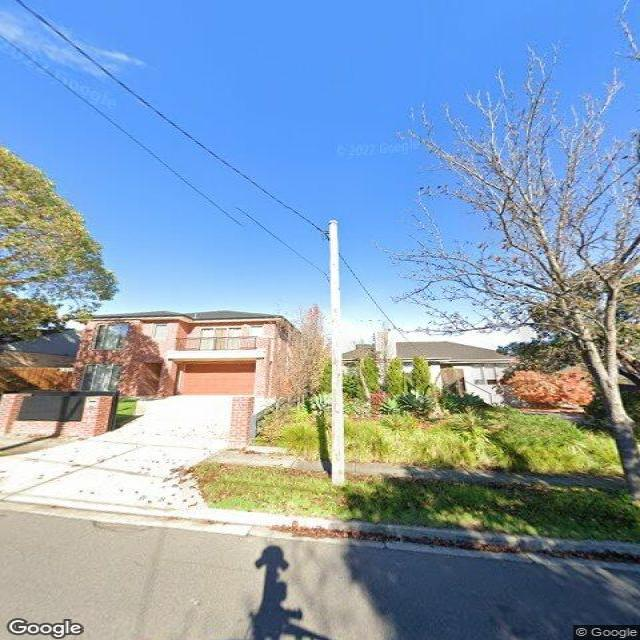timber-pole: (328, 219, 346, 489)
